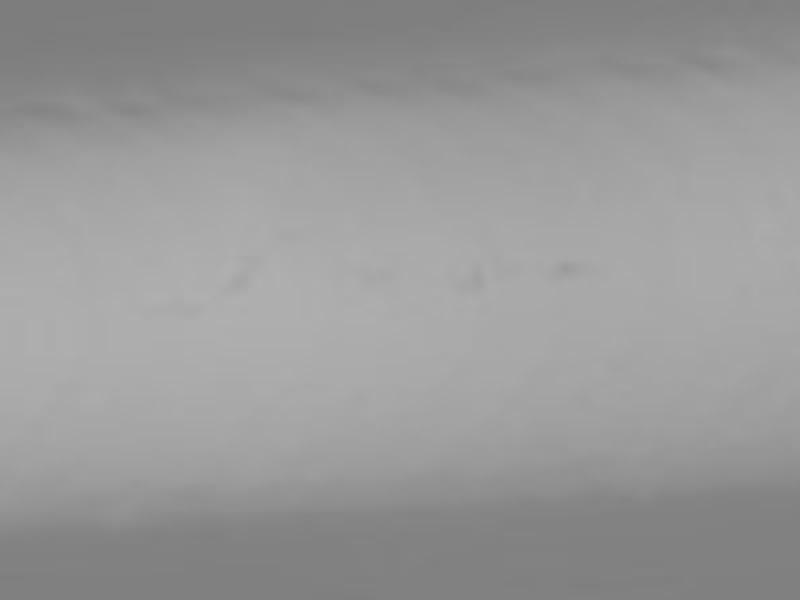defect: (458, 261, 491, 298), (225, 269, 257, 299), (547, 258, 584, 274)
